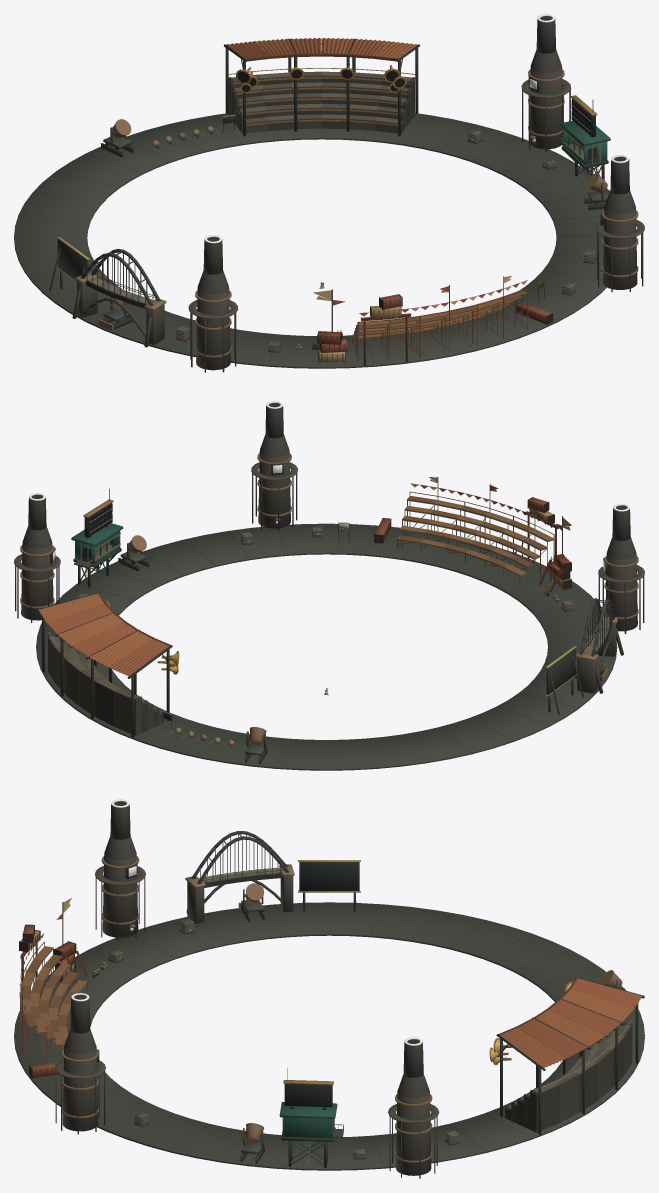
Rendered from arena_bowl_yard.glb.
3 renders of one model, top to bottom at view 1: azimuth 30°, elevation 25°; view 2: azimuth 150°, elevation 25°; view 3: azimuth 270°, elevation 25°, orthographic. The views are drawn at different scales.
Parts seen in each view (by area): view 1: YardDeck, FleetStands, CupolaFurnaces, LadleCars, LedgerBoard, IngotStock, CrewYard; view 2: YardDeck, FleetStands, CupolaFurnaces, LadleCars, LedgerBoard, CrewYard; view 3: YardDeck, FleetStands, CupolaFurnaces, LedgerBoard, LadleCars, IngotStock.
Part boxes in pixels (x1,y1,x2,y2): YardDeck: (14, 113, 608, 368); FleetStands: (72, 37, 610, 366); CupolaFurnaces: (188, 16, 644, 372); LadleCars: (100, 119, 609, 329); LedgerBoard: (49, 236, 89, 290); IngotStock: (175, 130, 596, 352); CrewYard: (152, 114, 544, 349); YardDeck: (36, 523, 617, 770); FleetStands: (36, 477, 623, 737); CupolaFurnaces: (14, 403, 644, 633); LadleCars: (118, 535, 605, 764); LedgerBoard: (545, 646, 583, 714); CrewYard: (162, 522, 559, 746); YardDeck: (14, 902, 644, 1170); FleetStands: (19, 831, 644, 1168); CupolaFurnaces: (55, 801, 439, 1178); LedgerBoard: (298, 860, 360, 911); LadleCars: (240, 883, 625, 1163); IngotStock: (108, 918, 460, 1159).
Bounding box in the file's own units: 171 × 51.27 × 163.
